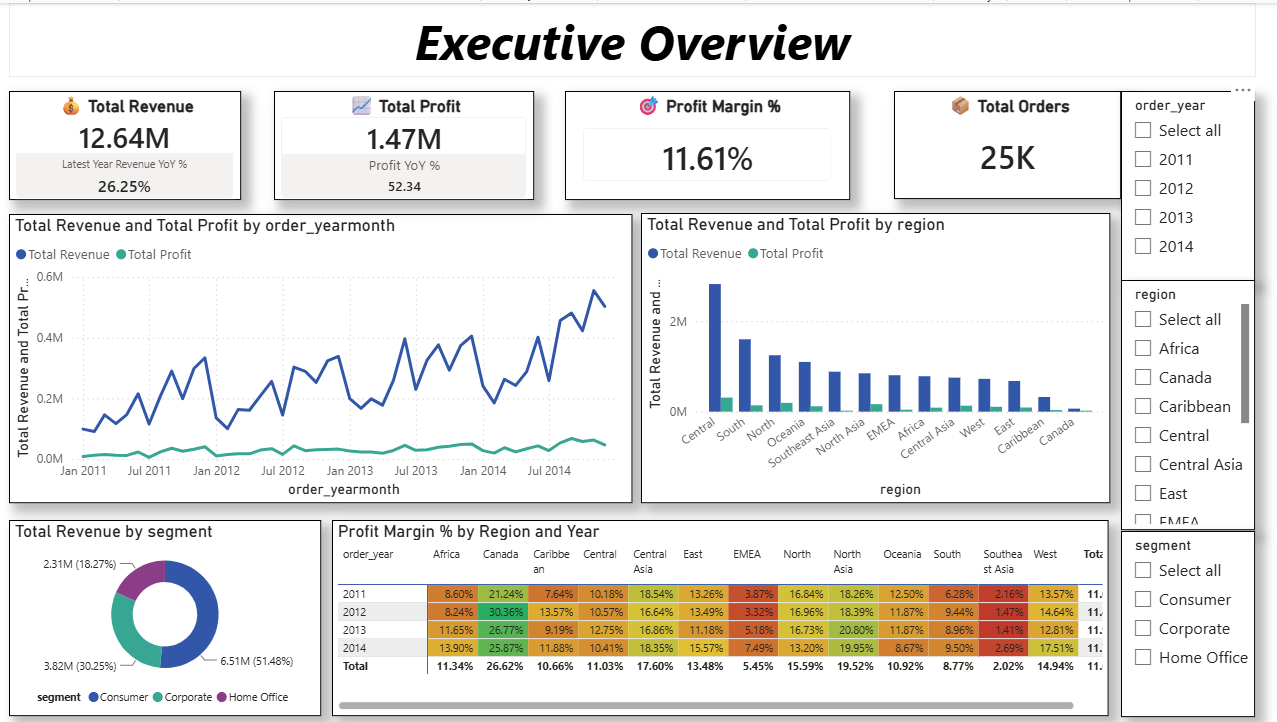

This screenshot's page, from the dashboard's own definition file:
{"tool":"powerbi","page":{"name":"Executive Overview","canvas":[1280,720],"ordinal":0},"visuals":[{"type":"cardVisual","title":"💰 Total Revenue","fields":{"Data":["superstore_clean.Total Revenue"]},"box":[9,87.8,231.9,109.3],"z":0},{"type":"cardVisual","title":"🎯 Profit Margin %","fields":{"Data":["superstore_clean.Profit Margin %"]},"box":[564.1,87.5,285,108.9],"z":1000},{"type":"cardVisual","title":"📦 Total Orders","fields":{"Data":["superstore_clean.Total Orders"]},"box":[892.8,87.8,227.5,108.4],"z":2000},{"type":"lineChart","fields":{"Y":["superstore_clean.Total Revenue","superstore_clean.Total Profit"],"Category":["superstore_clean.order_yearmonth"]},"box":[9,210.4,623.3,289.3],"z":3000},{"type":"clusteredColumnChart","fields":{"Category":["superstore_clean.region"],"Y":["superstore_clean.Total Revenue","superstore_clean.Total Profit"]},"box":[640,210.1,468.8,289.8],"z":4000},{"type":"donutChart","fields":{"Category":["superstore_clean.segment"],"Y":["superstore_clean.Total Revenue"]},"box":[9,516.7,311.6,196.1],"z":5000},{"type":"pivotTable","title":"Profit Margin % by Region and Year","fields":{"Rows":["superstore_clean.order_year"],"Columns":["superstore_clean.region"],"Values":["superstore_clean.Profit Margin %"]},"box":[332.2,516.7,776.4,196.1],"z":6000},{"type":"slicer","fields":{"Values":["superstore_clean.order_year"]},"box":[1120.5,87.5,134.2,189.7],"z":7000},{"type":"slicer","fields":{"Values":["superstore_clean.region"]},"box":[1120.5,277.2,134.2,250],"z":8000},{"type":"slicer","fields":{"Values":["superstore_clean.segment"]},"box":[1120.5,527.2,134.2,185.8],"z":9000},{"type":"textbox","box":[8.8,0,1246,73.9],"z":10000},{"type":"cardVisual","title":"📈 Total Profit","fields":{"Data":["superstore_clean.Total Profit"]},"box":[274,87.8,259.7,109.3],"z":11000}]}

Visuals, with their boxes in screenshot pixels (x1, y1, x2, y2), scaled from the page's 1280x720 canvas onto the 1277x722 screenshot:
"💰 Total Revenue" cardVisual: x1=9 y1=88 x2=240 y2=198
"🎯 Profit Margin %" cardVisual: x1=563 y1=88 x2=847 y2=197
"📦 Total Orders" cardVisual: x1=891 y1=88 x2=1118 y2=197
lineChart - superstore_clean.Total Revenue x superstore_clean.Total Profit: x1=9 y1=211 x2=631 y2=501
clusteredColumnChart - superstore_clean.region x superstore_clean.Total Revenue: x1=638 y1=211 x2=1106 y2=501
donutChart - superstore_clean.segment x superstore_clean.Total Revenue: x1=9 y1=518 x2=320 y2=715
"Profit Margin % by Region and Year" pivotTable: x1=331 y1=518 x2=1106 y2=715
slicer - superstore_clean.order_year: x1=1118 y1=88 x2=1252 y2=278
slicer - superstore_clean.region: x1=1118 y1=278 x2=1252 y2=529
slicer - superstore_clean.segment: x1=1118 y1=529 x2=1252 y2=715
textbox: x1=9 y1=0 x2=1252 y2=74
"📈 Total Profit" cardVisual: x1=273 y1=88 x2=532 y2=198
